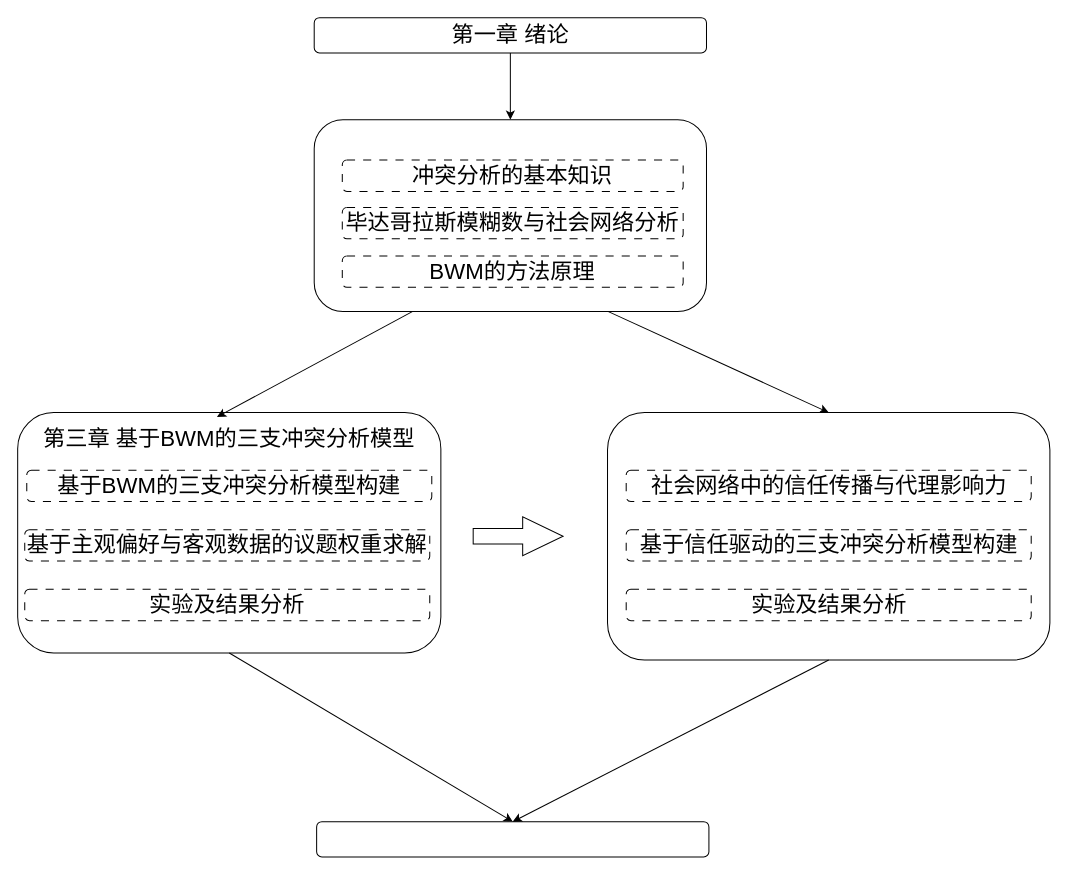
This 1068x875 diagram has some shape labels left out. Here are the shapes that lost their labels. From the top down, the box of each, then its label:
(313, 119, 706, 312): 第二章 相关理论介绍
(607, 412, 1050, 660): 第四章 基于信任驱动的三支冲突分析模型
(316, 821, 709, 857): 第五章 总结与展望
